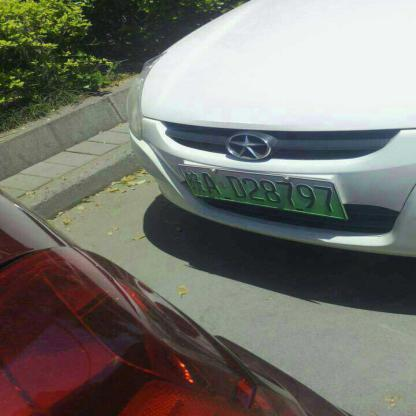lp: (178, 165, 345, 217)
